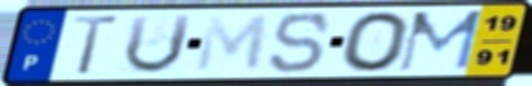M: (393, 8, 487, 74), (192, 13, 272, 74)
O: (338, 9, 413, 75)
S: (267, 10, 334, 76)
T: (68, 14, 123, 77)
U: (120, 12, 196, 77)
